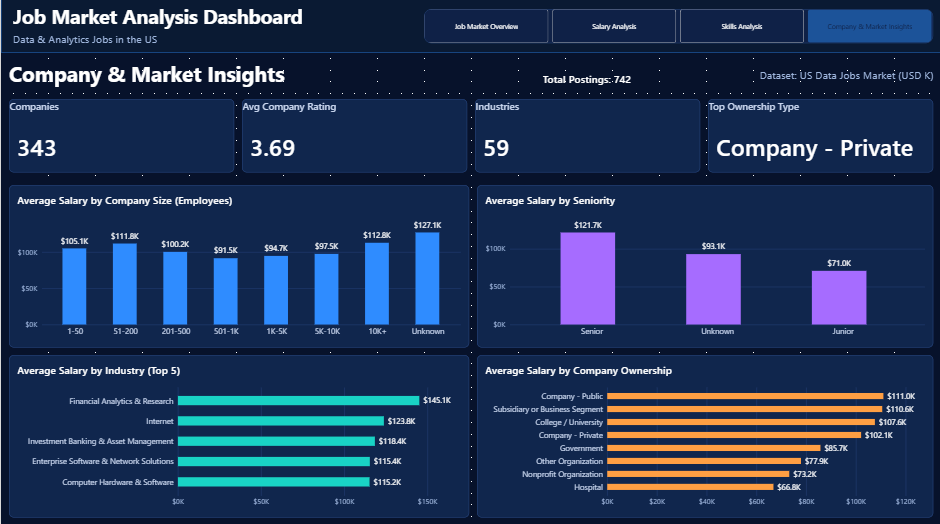

Layout of this report page (visuals, bound fields, positions):
{"tool":"powerbi","page":{"name":"Company & Market Insights","canvas":[1920,1080],"ordinal":3},"visuals":[{"type":"clusteredColumnChart","fields":{"Category":["Market_cleaned.Size"],"Y":["Avg(Market_cleaned.Avg_SalaryK)"]},"box":[10,0,280,280],"z":0},{"type":"clusteredColumnChart","fields":{"Category":["Market_cleaned.seniority_by_title"],"Y":["Avg(Market_cleaned.Avg_SalaryK)"]},"box":[10,290,280,280],"z":1},{"type":"clusteredBarChart","fields":{"Category":["Market_cleaned.Industry"],"Y":["Avg(Market_cleaned.Avg_SalaryK)"]},"box":[10,580,280,280],"z":2},{"type":"clusteredBarChart","fields":{"Category":["Market_cleaned.Type_of_ownership"],"Y":["Avg(Market_cleaned.Avg_SalaryK)"]},"box":[10,870,280,210],"z":3}]}

Visuals, with their boxes in screenshot pixels (x1, y1, x2, y2), scaled from the page's 1920x1080 canvas onto the 940x524 screenshot:
clusteredColumnChart - Market_cleaned.Size x Avg(Market_cleaned.Avg_SalaryK): (left=5, top=0, right=142, bottom=136)
clusteredColumnChart - Market_cleaned.seniority_by_title x Avg(Market_cleaned.Avg_SalaryK): (left=5, top=141, right=142, bottom=277)
clusteredBarChart - Market_cleaned.Industry x Avg(Market_cleaned.Avg_SalaryK): (left=5, top=281, right=142, bottom=417)
clusteredBarChart - Market_cleaned.Type_of_ownership x Avg(Market_cleaned.Avg_SalaryK): (left=5, top=422, right=142, bottom=523)
